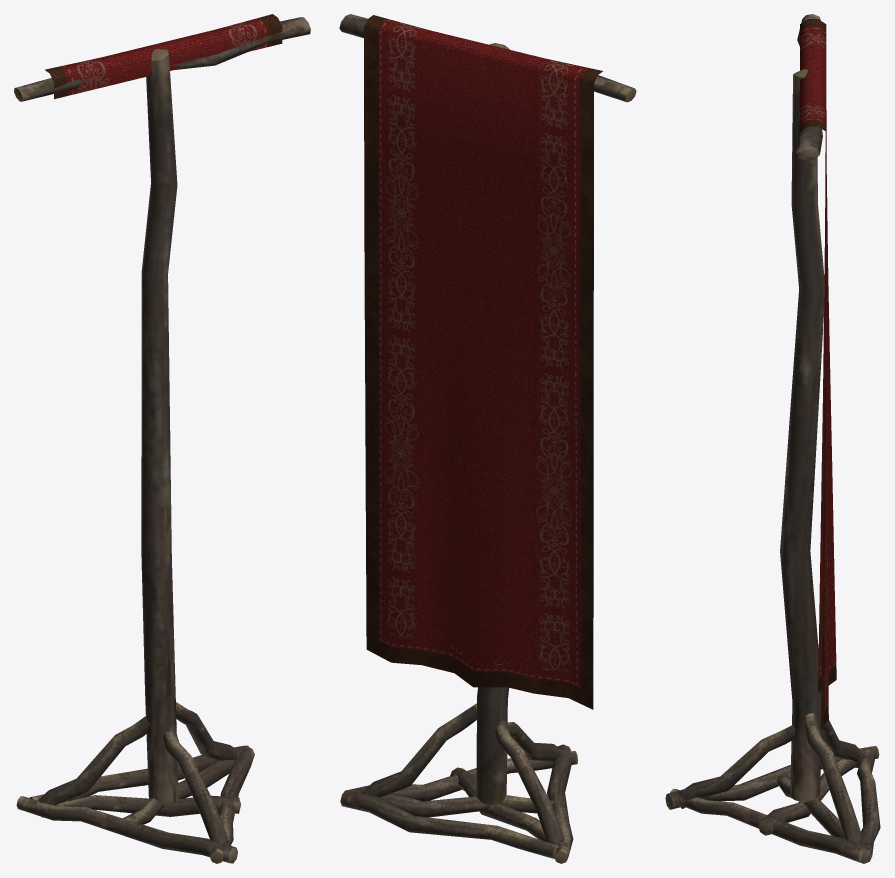
The model's file is ORN_Banner_A-transformed.glb.
The picture shows the model from 3 angles, left to right: view 1: azimuth 30°, elevation 25°; view 2: azimuth 150°, elevation 25°; view 3: azimuth 270°, elevation 25°; orthographic projection. The views are drawn at different scales.
Parts seen in each view (by area): view 1: default; view 2: default; view 3: default.
Part boxes in pixels (x1=…): default: x1=14, y1=14, x2=310, y2=863; default: x1=339, y1=14, x2=636, y2=863; default: x1=665, y1=14, x2=880, y2=863.
Bounding box in the file's own units: 0.6341 × 1.61 × 0.4225.
Materials: 2 (2 with a texture image).
